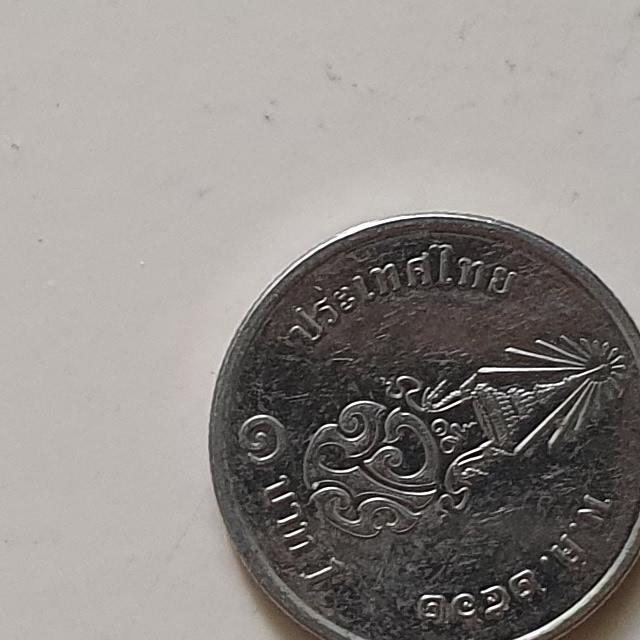1 Bath: (201, 202, 640, 640)
